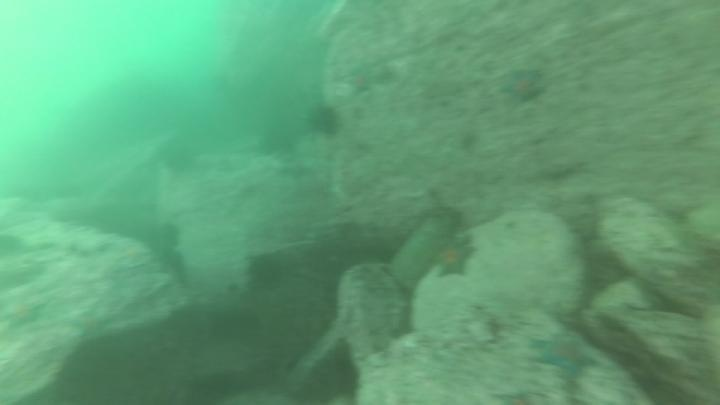echinus: (256, 119, 302, 160), (157, 138, 200, 179), (245, 251, 288, 291), (304, 101, 344, 141), (153, 219, 185, 254)
starfish: (527, 330, 602, 382), (429, 234, 478, 282), (497, 64, 549, 109), (66, 305, 116, 344), (0, 295, 49, 334), (341, 58, 381, 100), (111, 238, 153, 271), (488, 383, 545, 404)
